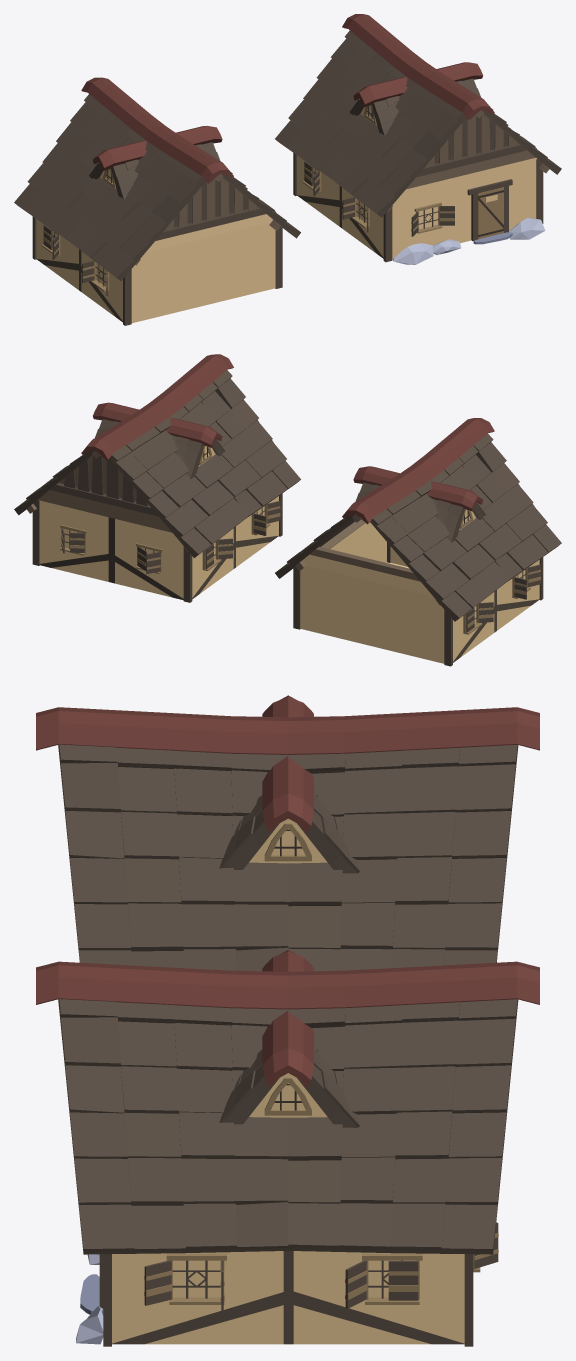
The model's file is house2.fbx.
3 views of the same model, one above another, from view 1: azimuth 30°, elevation 25°; view 2: azimuth 150°, elevation 25°; view 3: azimuth 270°, elevation 25° (orthographic). The views are drawn at different scales.
Visible parts, largest first — view 1: Cube.001, Cube, Icosphere; view 2: Cube, Cube.001; view 3: Cube, Cube.001, Icosphere.
Part boxes in pixels (left/top/right/bottom): Cube.001: left=14, top=77, right=300, bottom=325; Cube: left=275, top=14, right=561, bottom=262; Icosphere: left=392, top=218, right=545, bottom=264; Cube: left=14, top=354, right=300, bottom=602; Cube.001: left=275, top=418, right=561, bottom=666; Cube: left=36, top=950, right=539, bottom=1346; Cube.001: left=36, top=695, right=539, bottom=971; Icosphere: left=76, top=1254, right=103, bottom=1344.
Size of the model in its own units: 11502 by 3879 by 5609.
